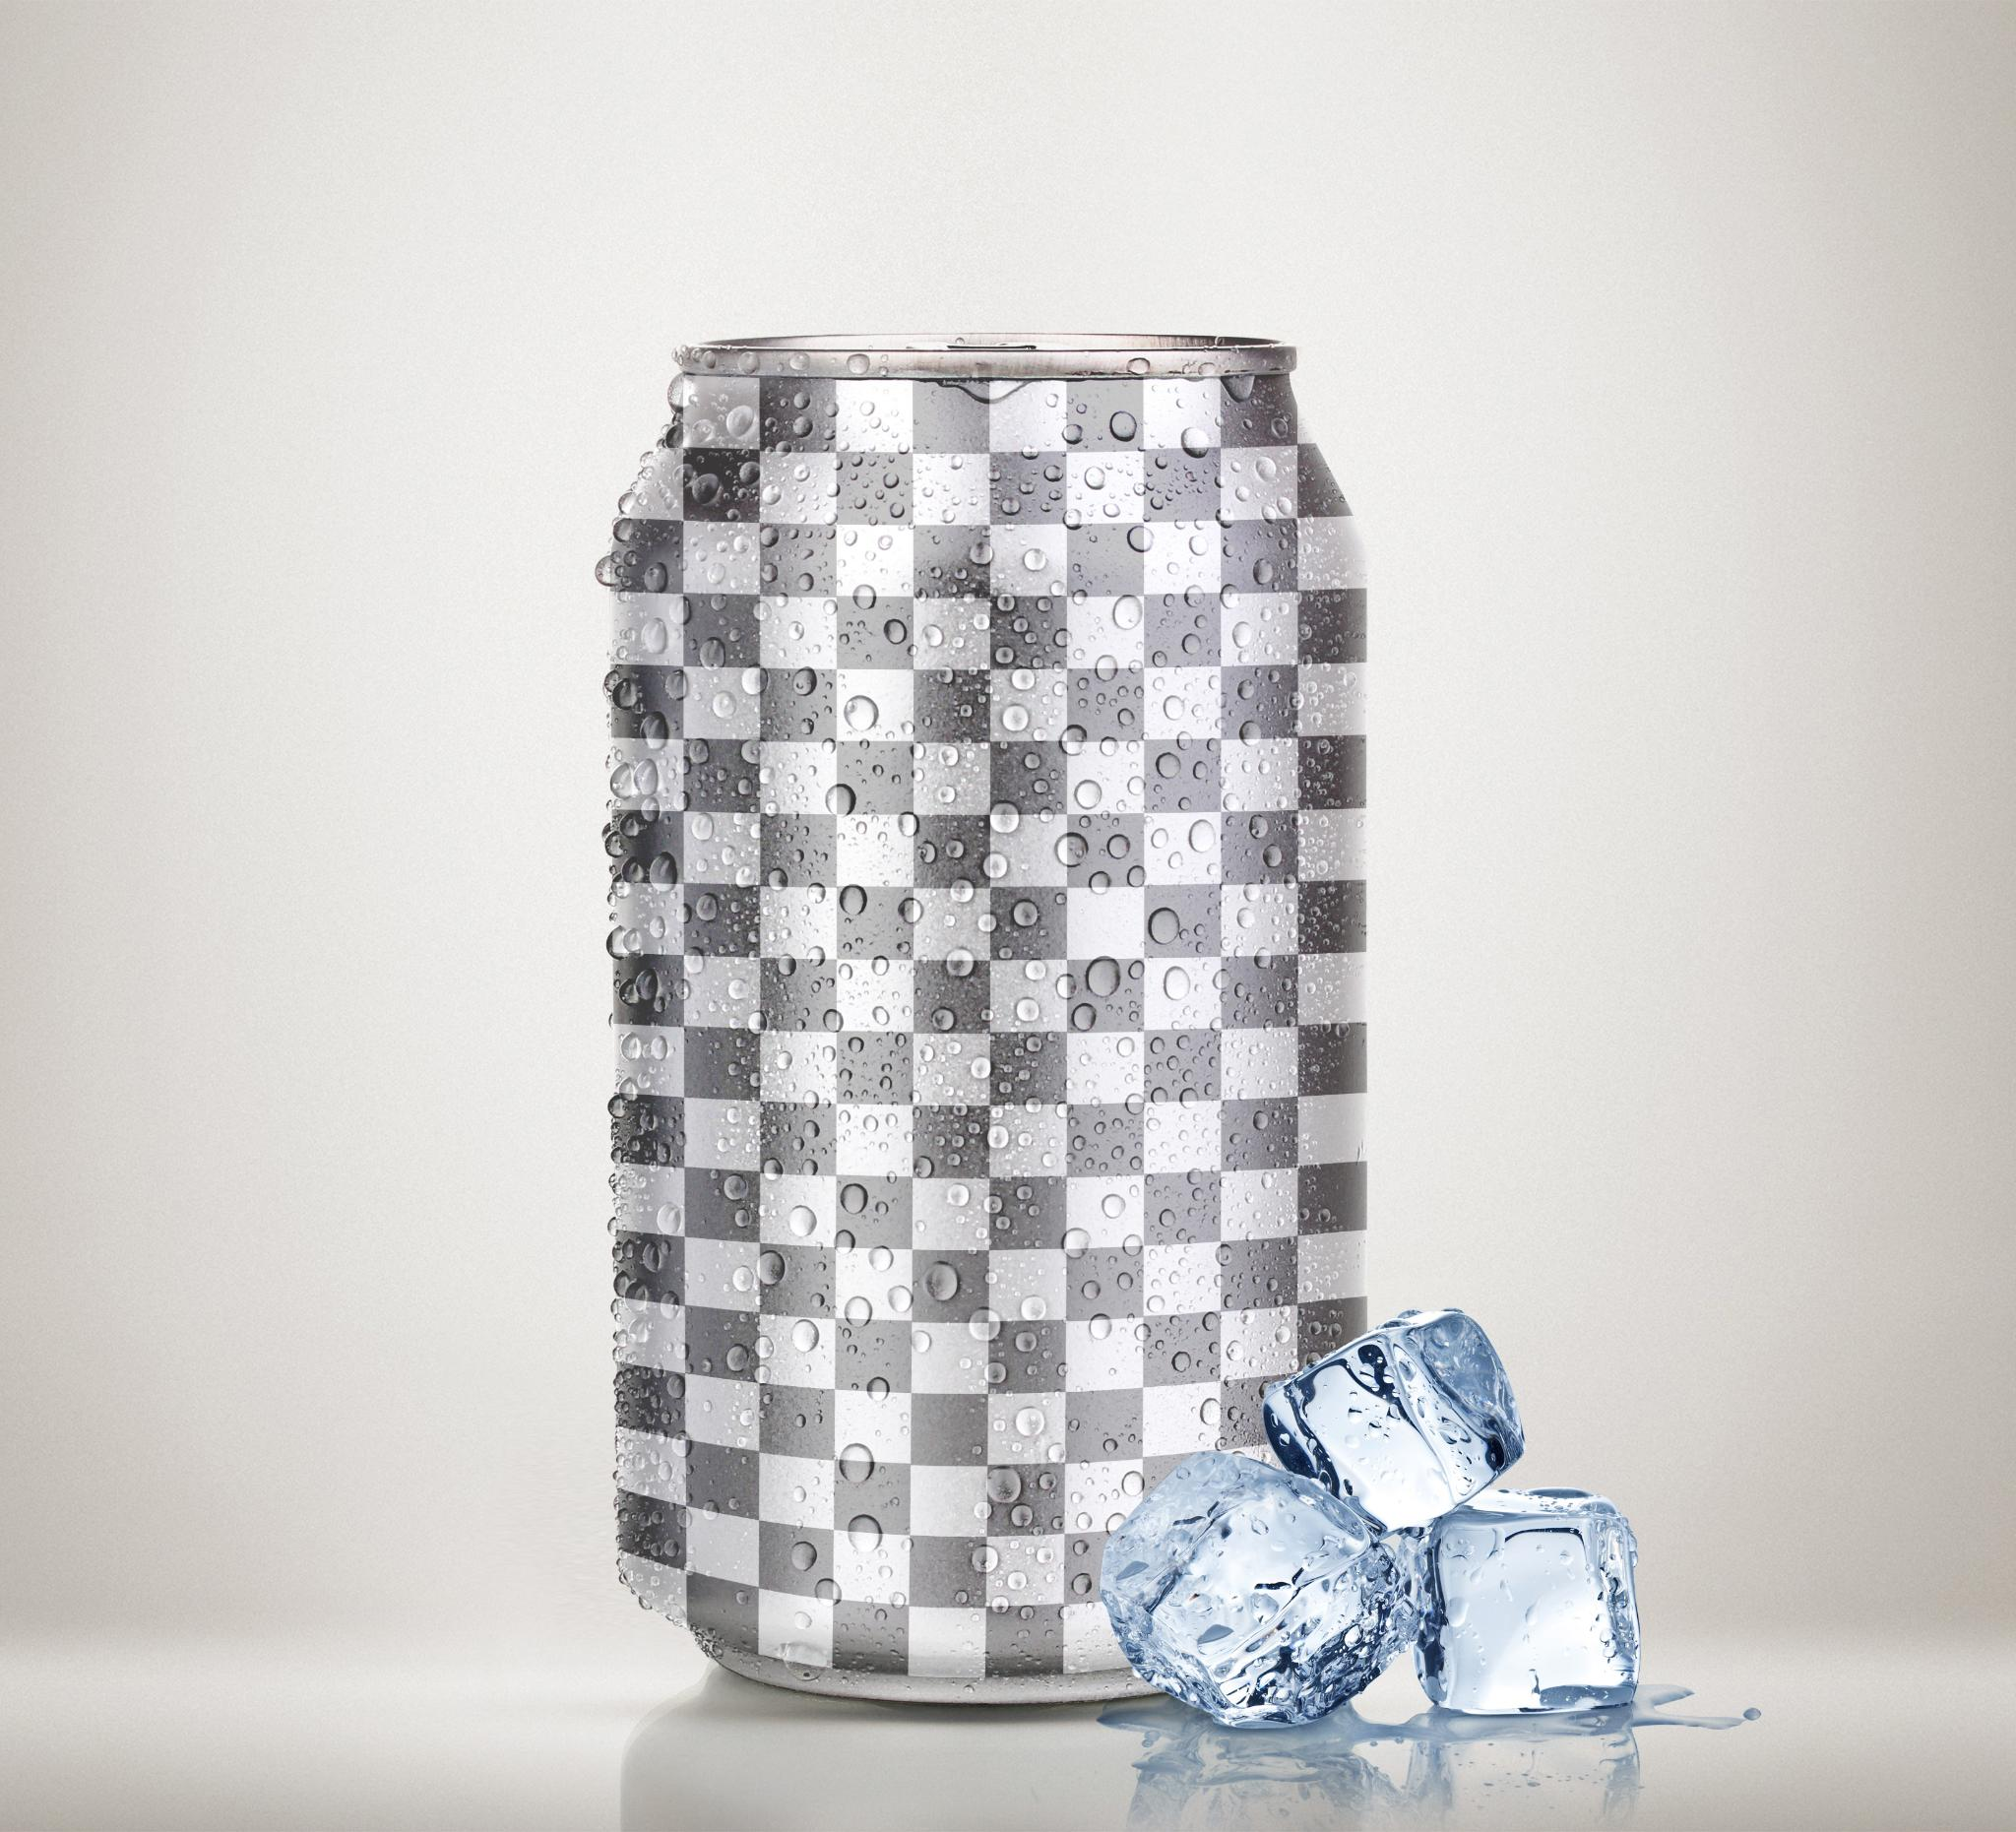metal: (597, 332, 1366, 1697)
paper: (1263, 1307, 1523, 1525)
